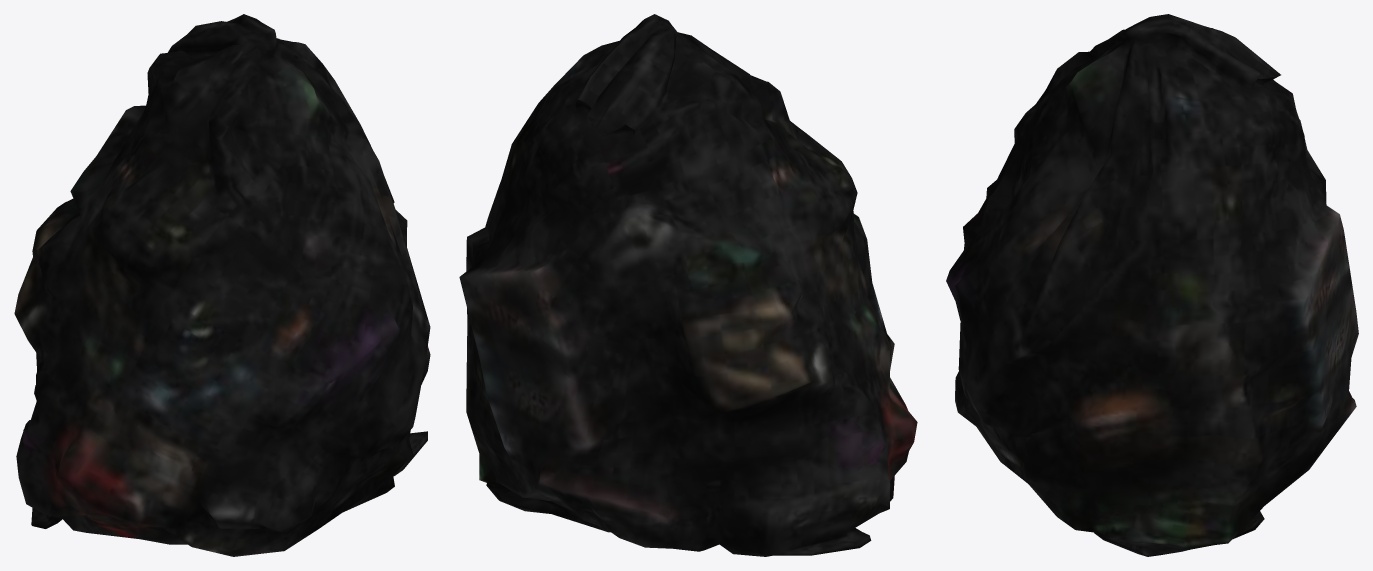
The model's file is trashbag.gltf.
3 views of the same model, side by side, from view 1: azimuth 30°, elevation 25°; view 2: azimuth 150°, elevation 25°; view 3: azimuth 270°, elevation 25° (orthographic). The views are drawn at different scales.
Parts seen in each view (by area): view 1: trashbag; view 2: trashbag; view 3: trashbag.
Boxes of the visible parts, x1,y1,x2,y2 form: trashbag: (14,14,430,556); trashbag: (459,14,917,556); trashbag: (946,14,1358,556).
Size of the model in its own units: 0.5236 by 0.5731 by 0.4629.
1 material, 1 textured.
